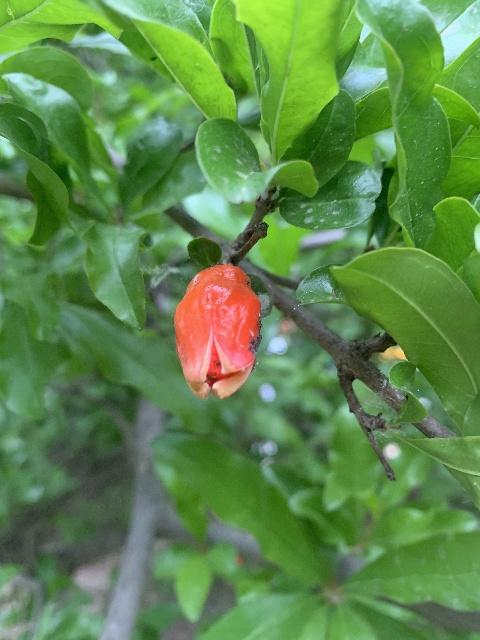flower: (174, 263, 259, 401)
